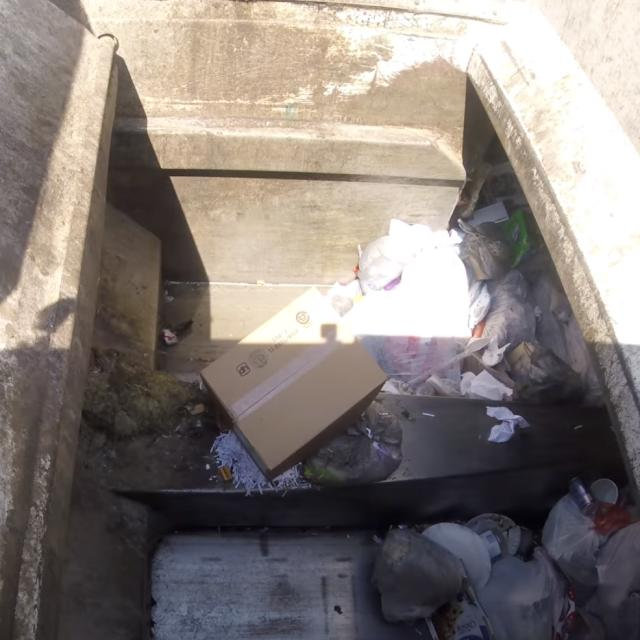bag: (330, 223, 550, 395), (353, 522, 467, 629), (541, 488, 636, 601)
cardboard: (190, 264, 396, 490)
metal: (558, 471, 600, 521)
trash: (434, 515, 535, 588)
